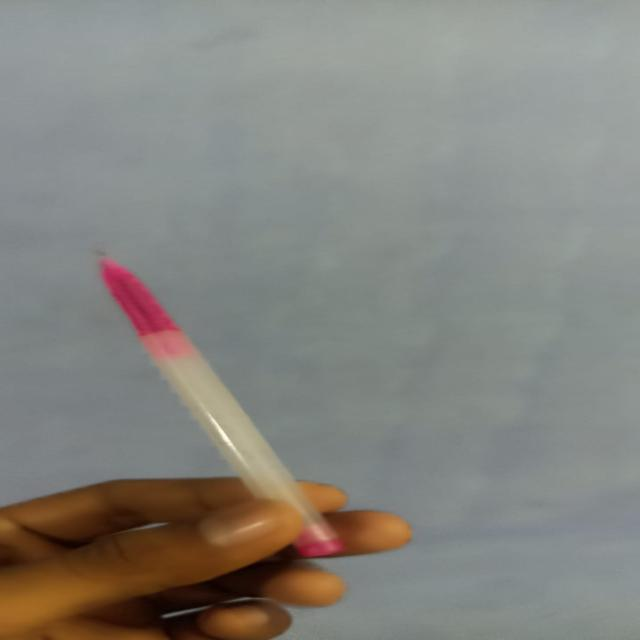pen: (63, 242, 369, 562)
